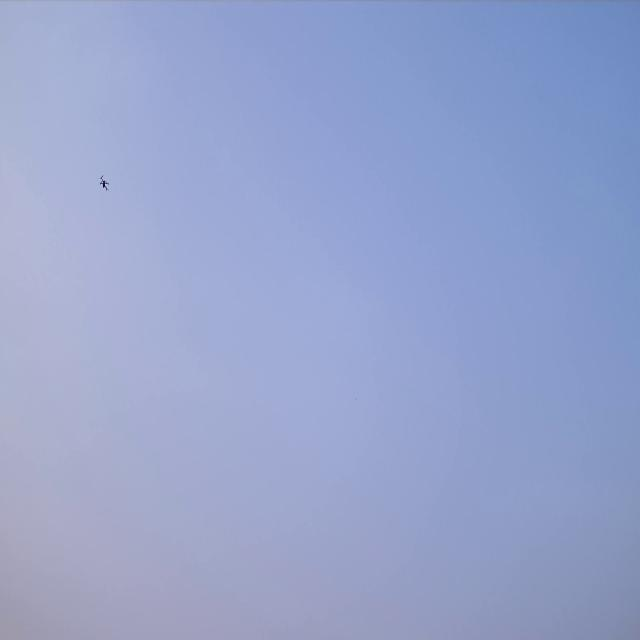UAV: (98, 173, 110, 194)
